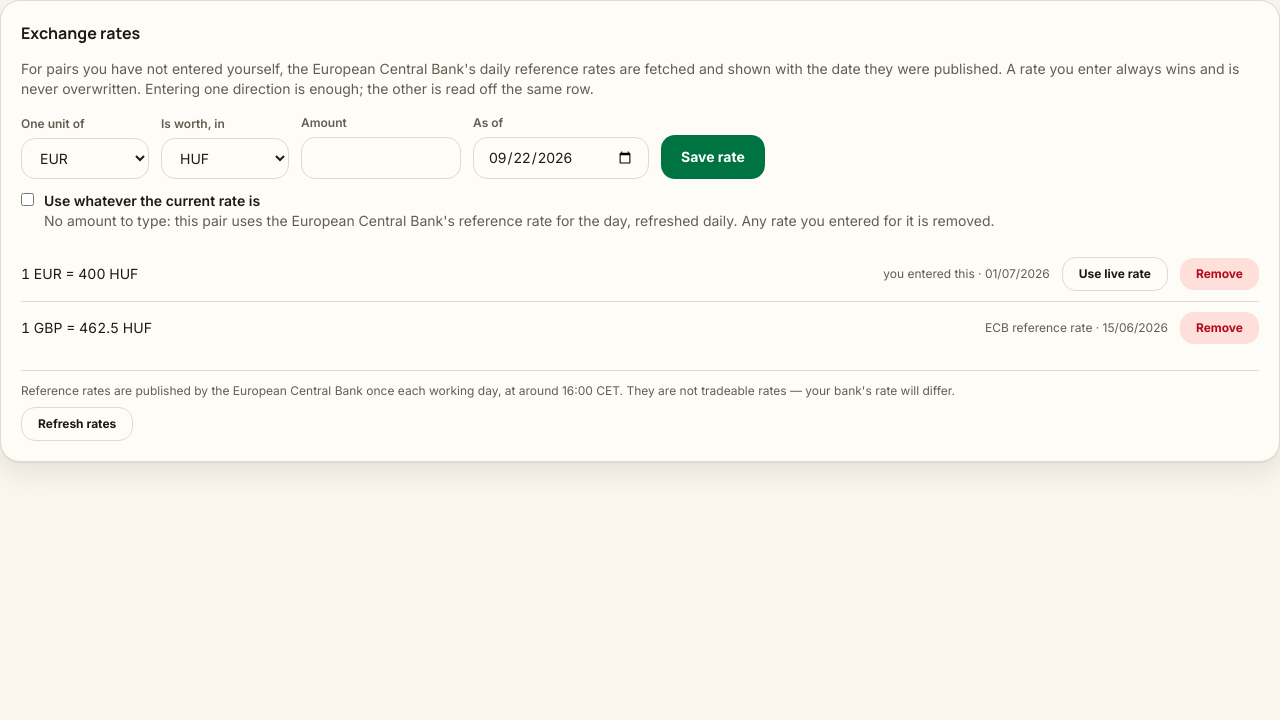
Test case: ExchangeRatesWidget › says so when nothing came back, rather than leaving a quietly emptier table
The width and height of the screenshot is (1280, 720).
Click the button "Use live rate".
click(1115, 274)  # box top-left (1062, 257), bottom-right (1168, 291)
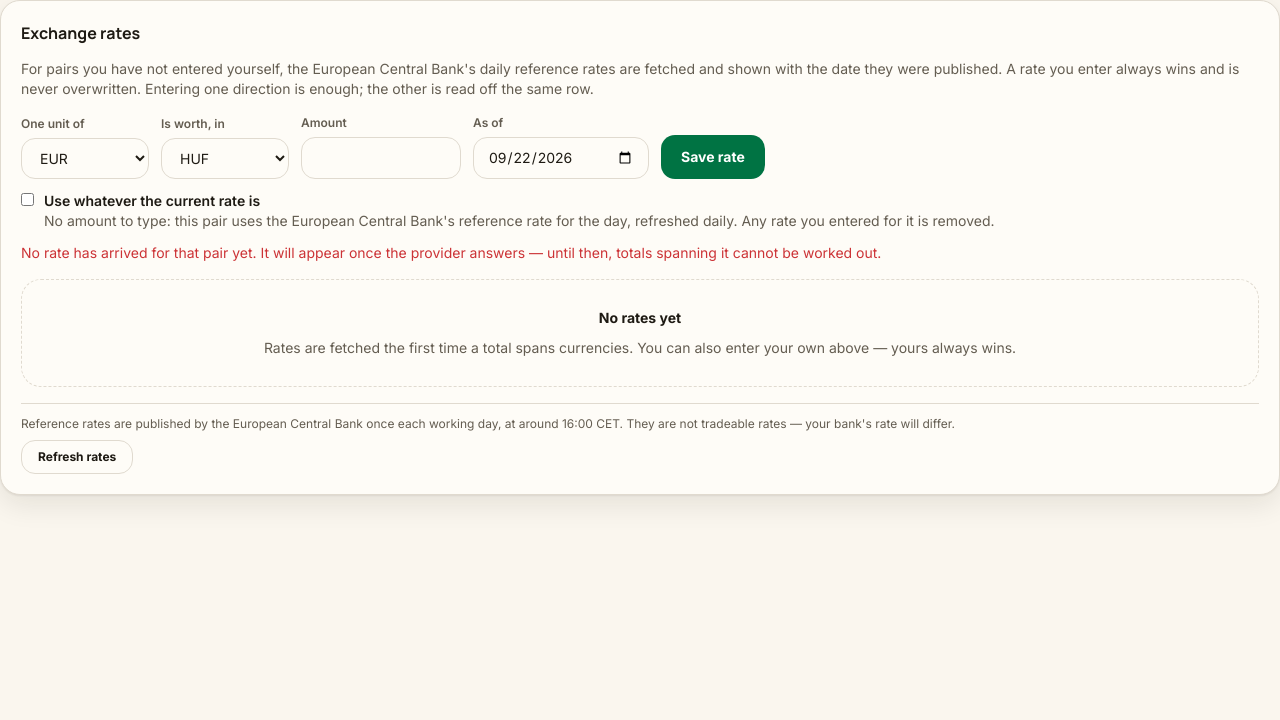
Expected: the text "No rate has arrived for that pair yet" is shown, top-left (21, 244), bottom-right (881, 261)
